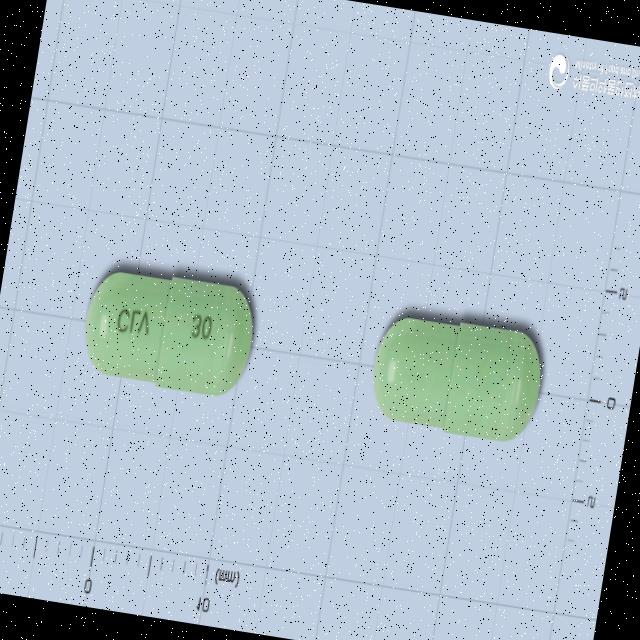Levovir Cap: (76, 263, 261, 402)
